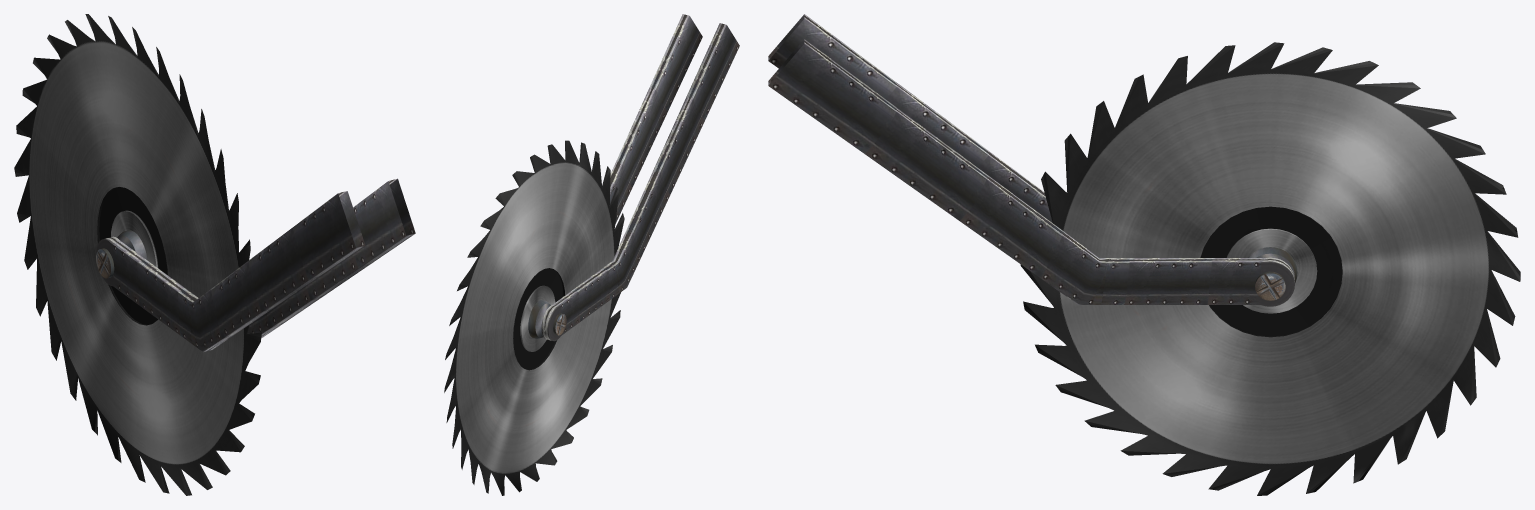
Rendered from piege_scie 1.fbx.
The picture shows the model from 3 angles, left to right: view 1: azimuth 30°, elevation 25°; view 2: azimuth 150°, elevation 25°; view 3: azimuth 270°, elevation 25°; orthographic projection. The views are drawn at different scales.
Parts seen in each view (by area): view 1: Scie, Bras; view 2: Scie, Bras; view 3: Scie, Bras.
Boxes of the visible parts, bbox=[...] form: Scie: bbox=[14, 14, 261, 495]; Bras: bbox=[96, 178, 415, 351]; Scie: bbox=[444, 140, 624, 495]; Bras: bbox=[528, 14, 739, 341]; Scie: bbox=[1020, 42, 1520, 495]; Bras: bbox=[768, 14, 1297, 306].
Bounding box in the file's own units: 32.6 × 206 × 301.
